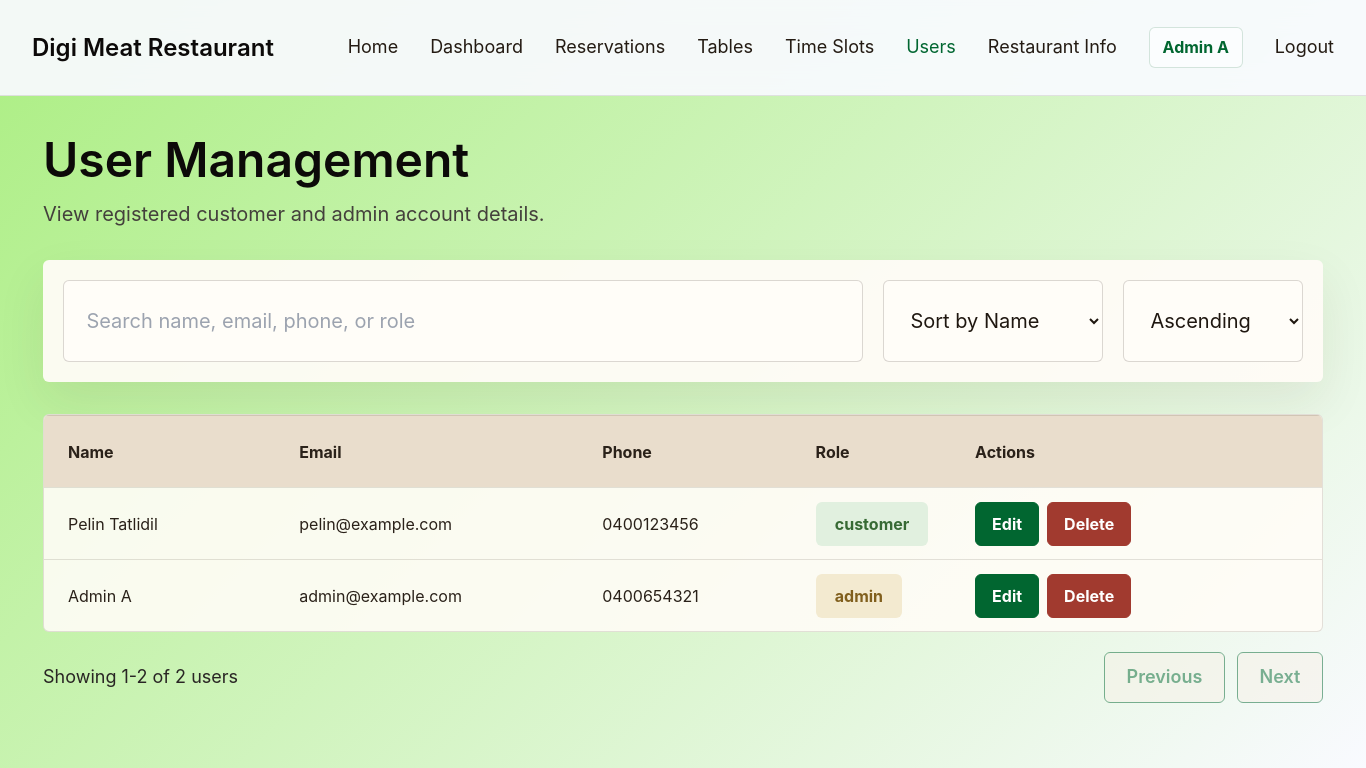
Test case: admin user management › admin can view registered users and open user details
Click the element with class "user-admin-row" that starts with "Pelin Tatlidil" at (683, 523), box [44,487,1322,559]
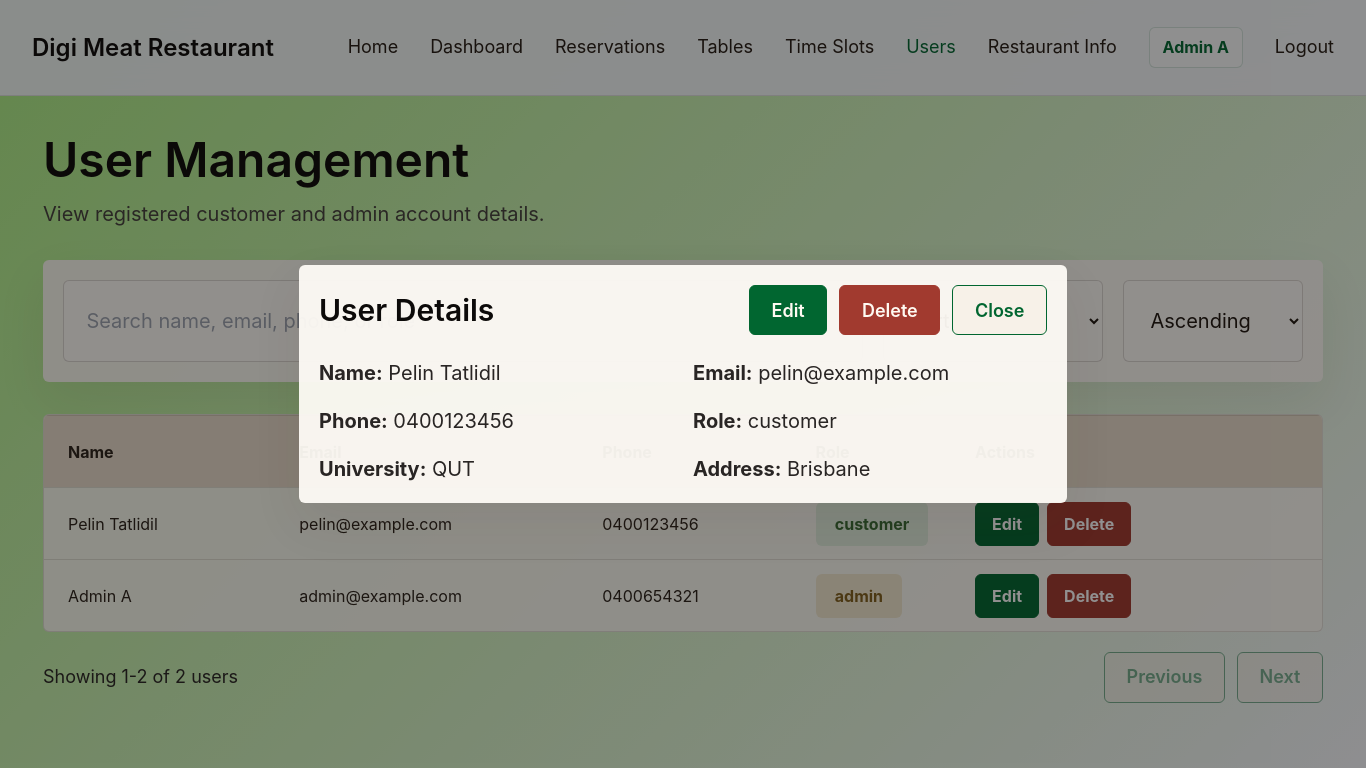
Now the text "User Details" is shown, box [319,292,494,328]
Now the text "University: QUT" is shown, box [319,457,475,481]
Now the text "Address: Brisbane" is shown, box [693,457,870,481]
